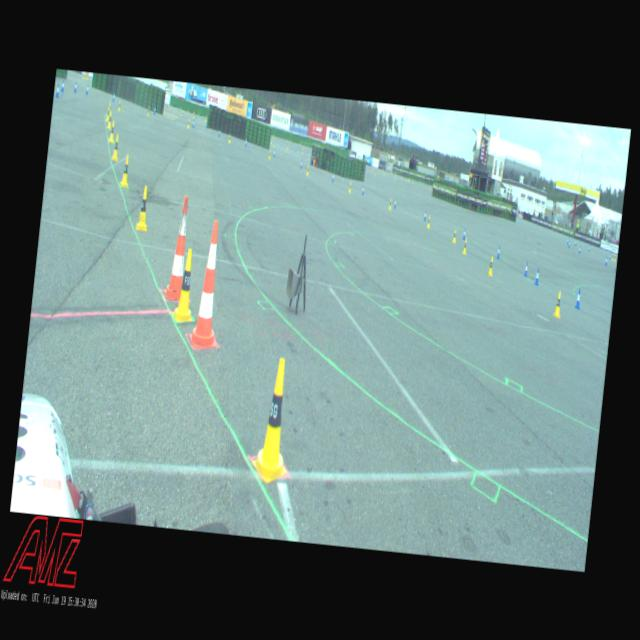blue_cone: (574, 288, 581, 309), (534, 268, 540, 285), (524, 261, 528, 276), (55, 84, 59, 98), (496, 245, 500, 258), (60, 80, 64, 92), (462, 228, 466, 239), (604, 256, 608, 265), (423, 210, 426, 221), (85, 84, 88, 95), (331, 172, 334, 182), (393, 198, 396, 208), (112, 92, 115, 101), (244, 138, 247, 147), (153, 105, 156, 114), (578, 244, 581, 253), (74, 82, 76, 92), (362, 184, 364, 194), (568, 238, 570, 248), (300, 159, 302, 168), (192, 119, 194, 127), (218, 128, 220, 136), (273, 149, 275, 157), (566, 236, 568, 244), (588, 244, 590, 251), (608, 252, 610, 259), (574, 240, 576, 246)
large_orange_cone: (188, 218, 228, 350), (164, 194, 192, 300)
yellow_cone: (250, 356, 298, 483), (171, 247, 199, 322), (135, 186, 151, 230), (120, 154, 130, 187), (111, 133, 120, 161), (553, 290, 562, 317), (108, 120, 115, 142), (487, 256, 494, 276), (106, 111, 112, 129), (462, 238, 467, 254), (426, 216, 431, 228), (452, 228, 456, 242), (106, 106, 110, 120), (117, 100, 121, 112), (388, 198, 392, 210), (146, 106, 150, 116), (348, 182, 351, 192), (187, 118, 190, 128), (268, 150, 271, 160), (306, 166, 308, 176), (228, 134, 230, 142), (611, 252, 613, 260), (614, 254, 616, 261)
